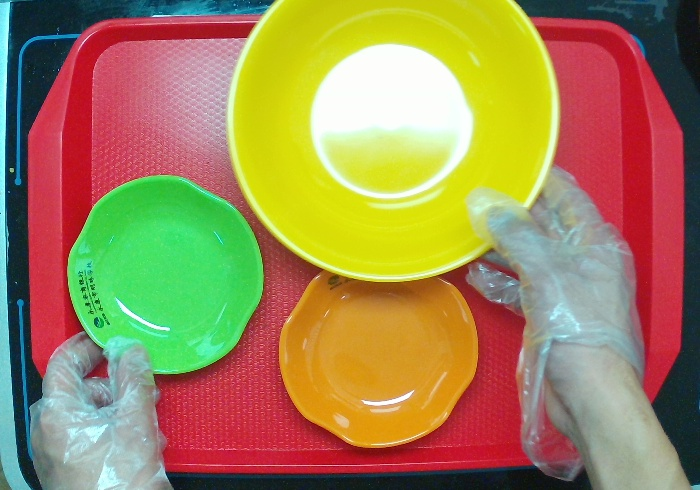YKMZ-Huang_Se_Tang_Wan: (220, 1, 562, 286)
YKMZ-Ju_Se_Ao_Bian_Wan: (272, 258, 482, 452)
YKMZ-Lv_Se_Ao_Bian_Wan: (59, 161, 274, 383)
